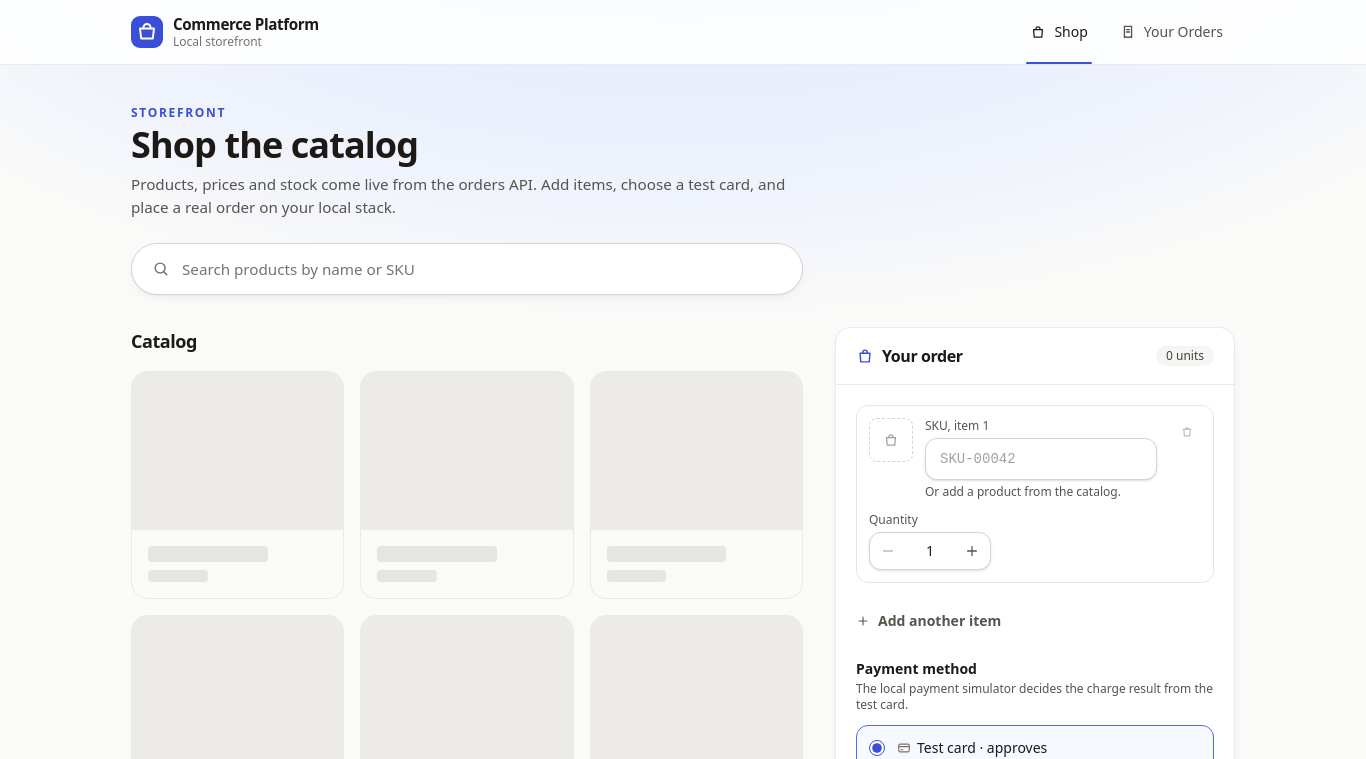
product search: matching › highlights the matching part of the name and SKU
Type "lant" into the dropdown labelled "Search products" at (482, 269), box [182, 244, 782, 294]
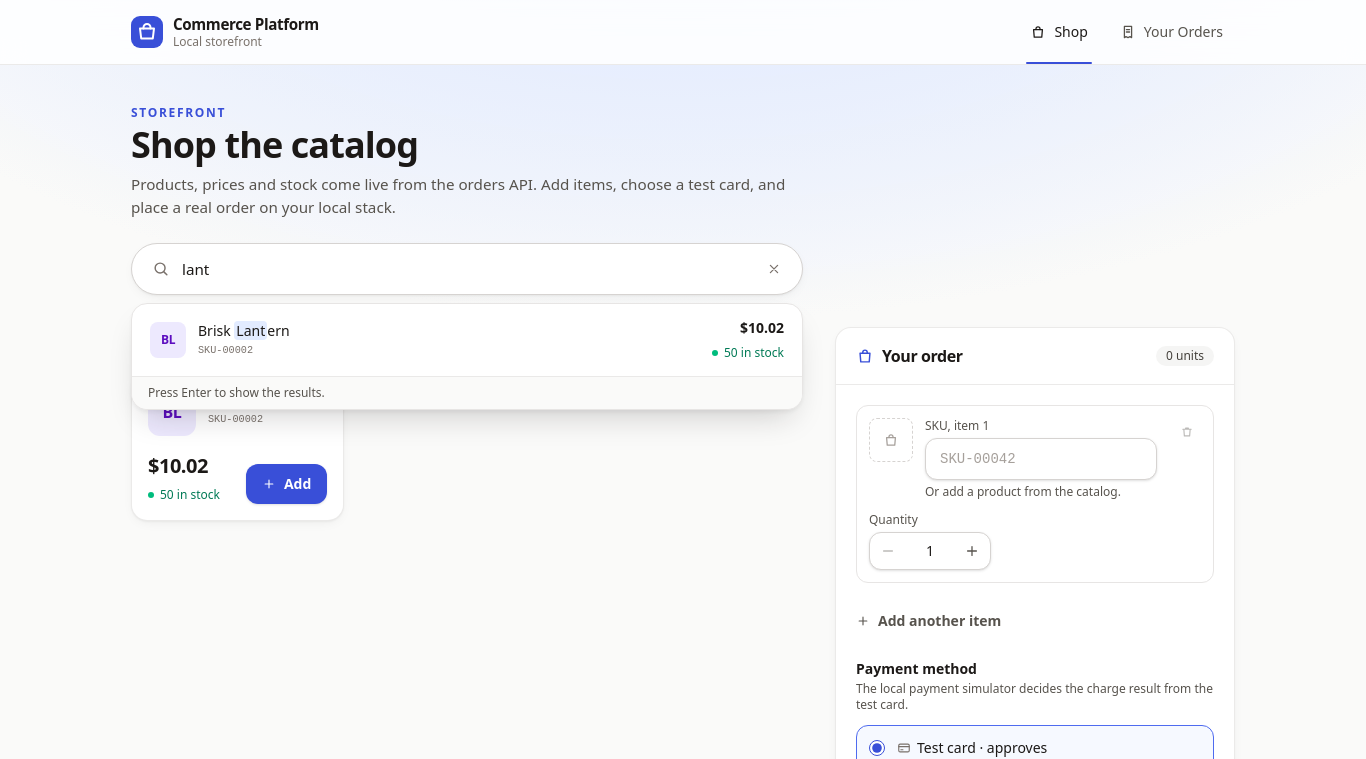
Now the number of options is 1, box [138, 310, 796, 370]
Replace the text in the dropdown named "Search products" with "00042" at (464, 269), box [182, 244, 746, 294]
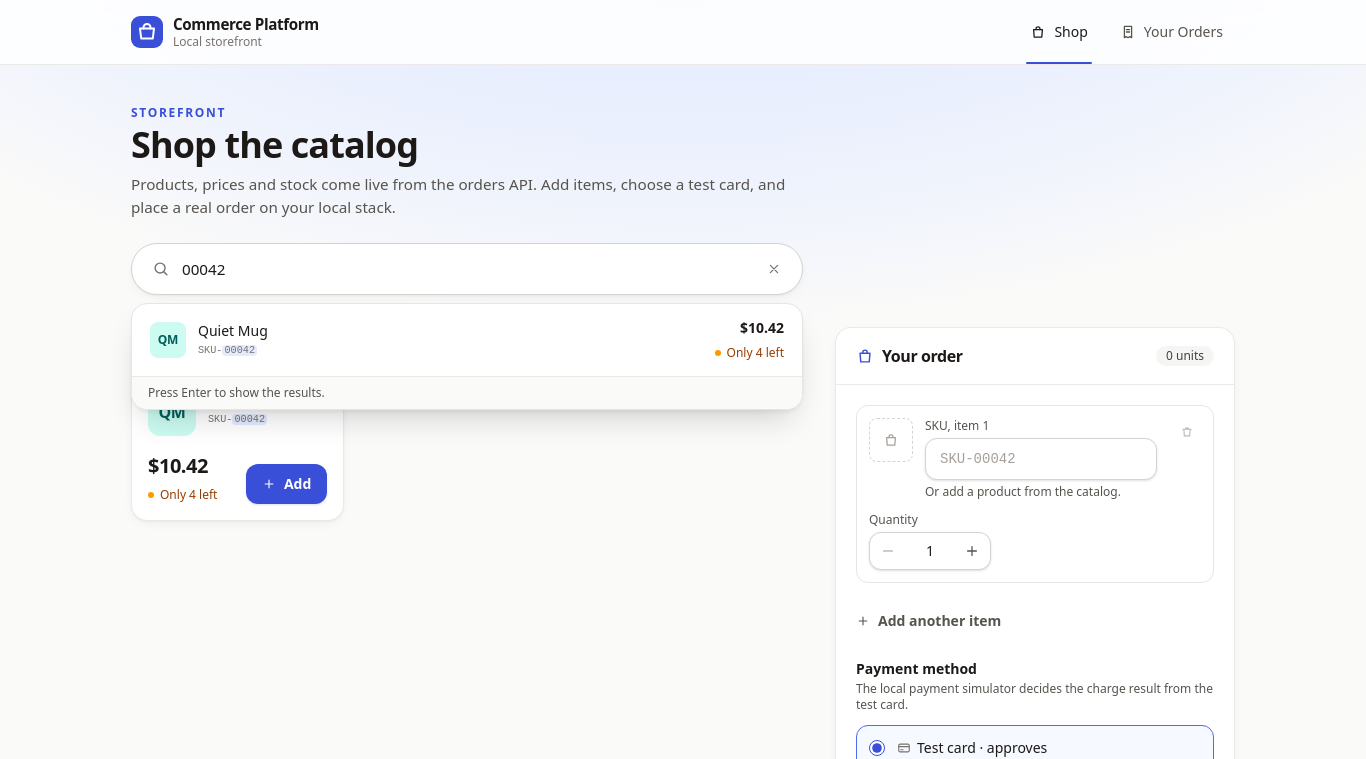
Now the 1st text "00042" is shown, box [222, 345, 257, 356]
